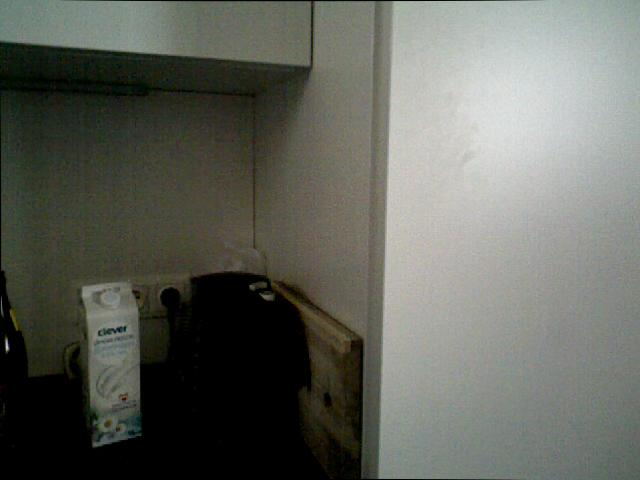bench: (75, 280, 147, 446), (0, 271, 33, 461)
giraffe: (61, 342, 87, 380)
hot dog: (367, 0, 640, 480)
